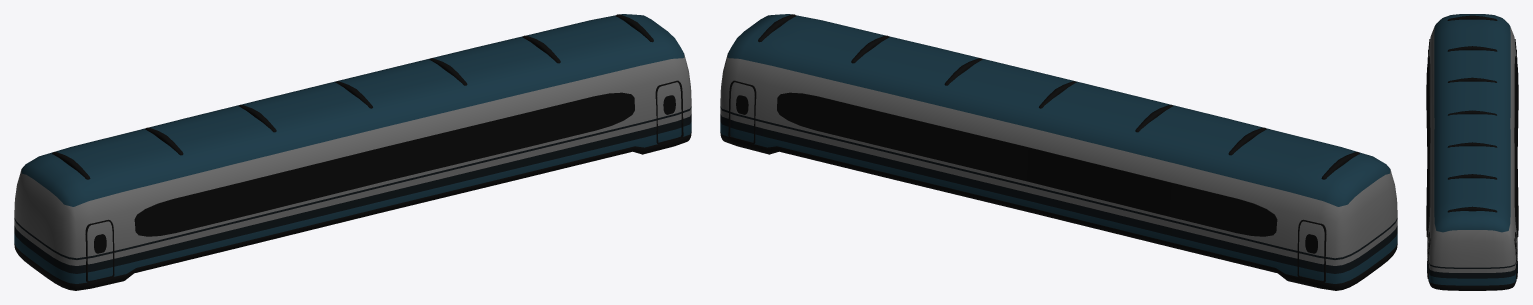
The model's file is HighSpeed_Wagon.obj.
3 renders of one model, left to right at view 1: azimuth 30°, elevation 25°; view 2: azimuth 150°, elevation 25°; view 3: azimuth 270°, elevation 25°, orthographic. The views are drawn at different scales.
Parts seen in each view (by area): view 1: HighspeedTrain_Wagon_Cube; view 2: HighspeedTrain_Wagon_Cube; view 3: HighspeedTrain_Wagon_Cube.
Part boxes in pixels (<box>): HighspeedTrain_Wagon_Cube: <box>14,14,691,290</box>; HighspeedTrain_Wagon_Cube: <box>720,14,1397,290</box>; HighspeedTrain_Wagon_Cube: <box>1426,14,1518,290</box>.
Bounding box in the file's own units: 11.18 × 1.9 × 2.03.
